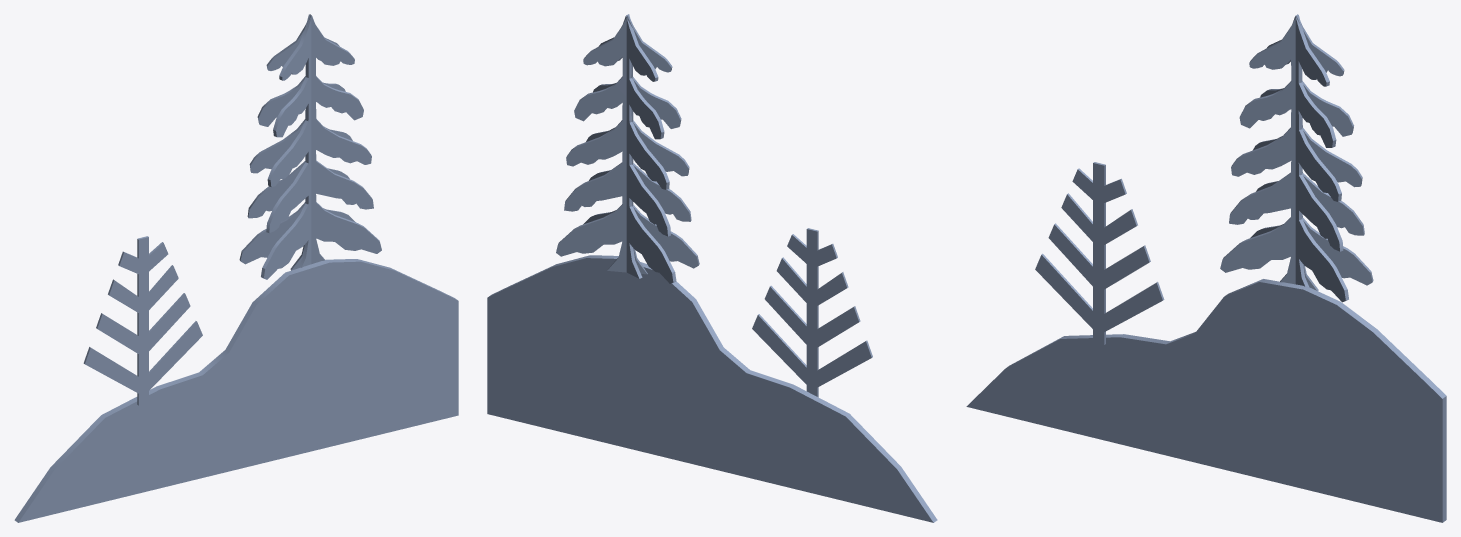
File: frame_0142.glb
The picture shows the model from 3 angles, left to right: view 1: azimuth 30°, elevation 25°; view 2: azimuth 150°, elevation 25°; view 3: azimuth 330°, elevation 25°; orthographic projection. The views are drawn at different scales.
Parts seen in each view (by area): view 1: export_trees_001.002; view 2: export_trees_001.002; view 3: export_trees_001.002.
Boxes of the visible parts, x1,y1,x2,y2 form: export_trees_001.002: (14,14,458,522); export_trees_001.002: (487,14,937,522); export_trees_001.002: (966,14,1446,522).
Bounding box in the file's own units: 0.2805 × 0.2619 × 0.0288.
